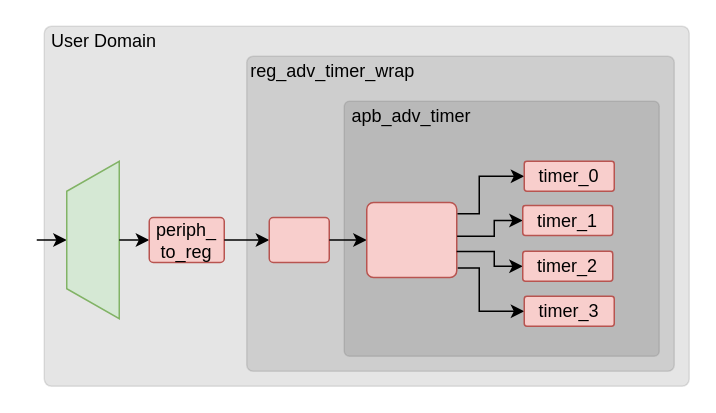
This 716x413 diagram has some shape labels left out. Each missing label, with the box of its shape:
adv_timer _apb_if: (365, 201, 457, 278)
OBI Demux: (65, 160, 119, 319)
reg_to _apb: (268, 216, 329, 262)
